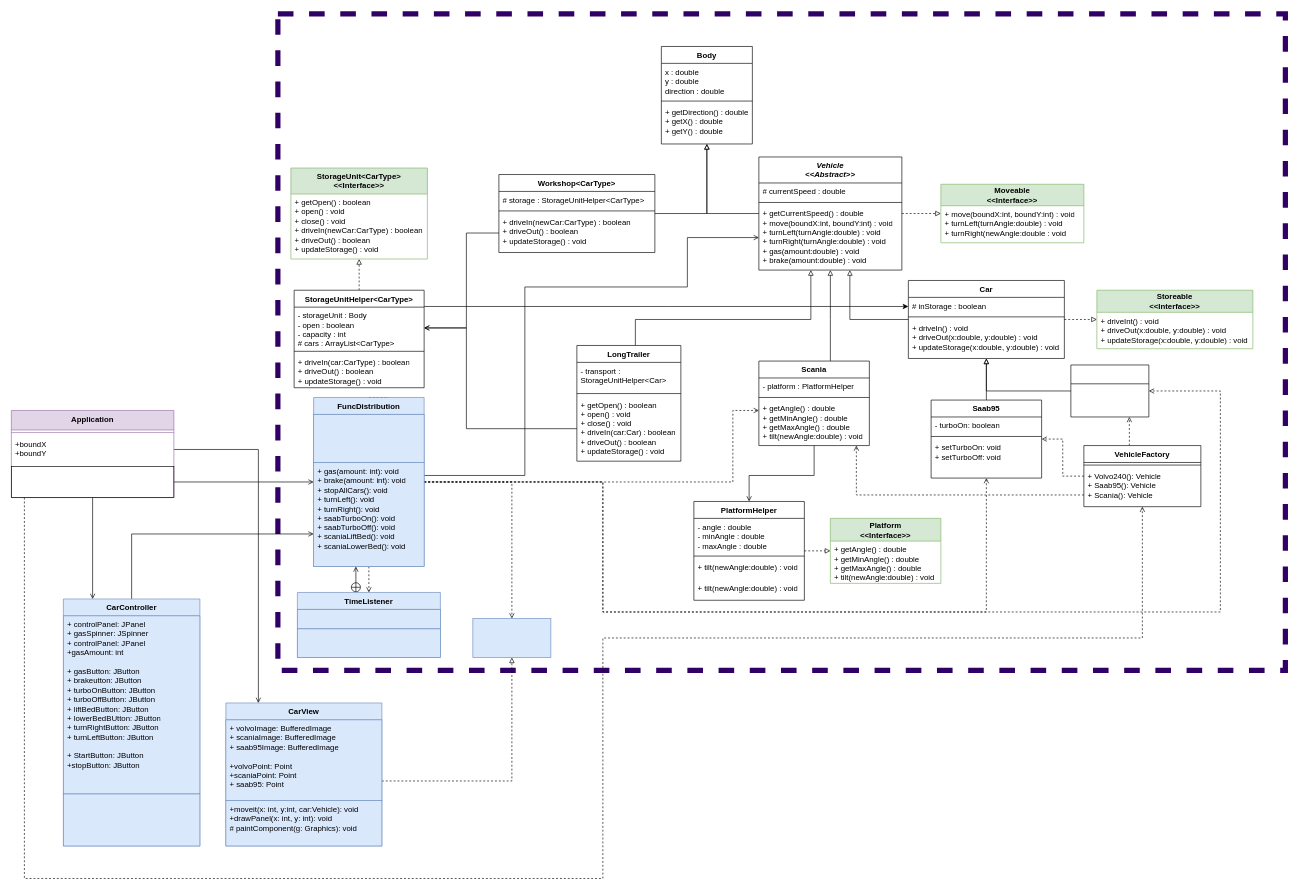
The diagram is 1299 pixels wide and 895 high, and some of its shapes have lost their labels. The shapes that lost their labels are listed below. From the top down, each one's centre as x and y in pixels, then its label:
At [1109,390]: "Volvo240".
At [368,438]: "- delay: int + timer: Timer + cars: ArrayList<Vehicle>".
At [92,482]: "- initApp(title: String, dp: drawPanel): void +main()".
At [368,619]: "+actionPerformed(e: ActionEvent: void".
At [511,637]: "UpdateListener <<Interface>>".
At [368,642]: "x: int y: int".
At [131,819]: "+getX(): int +getY(): int -initComponents(title: String): void{".
